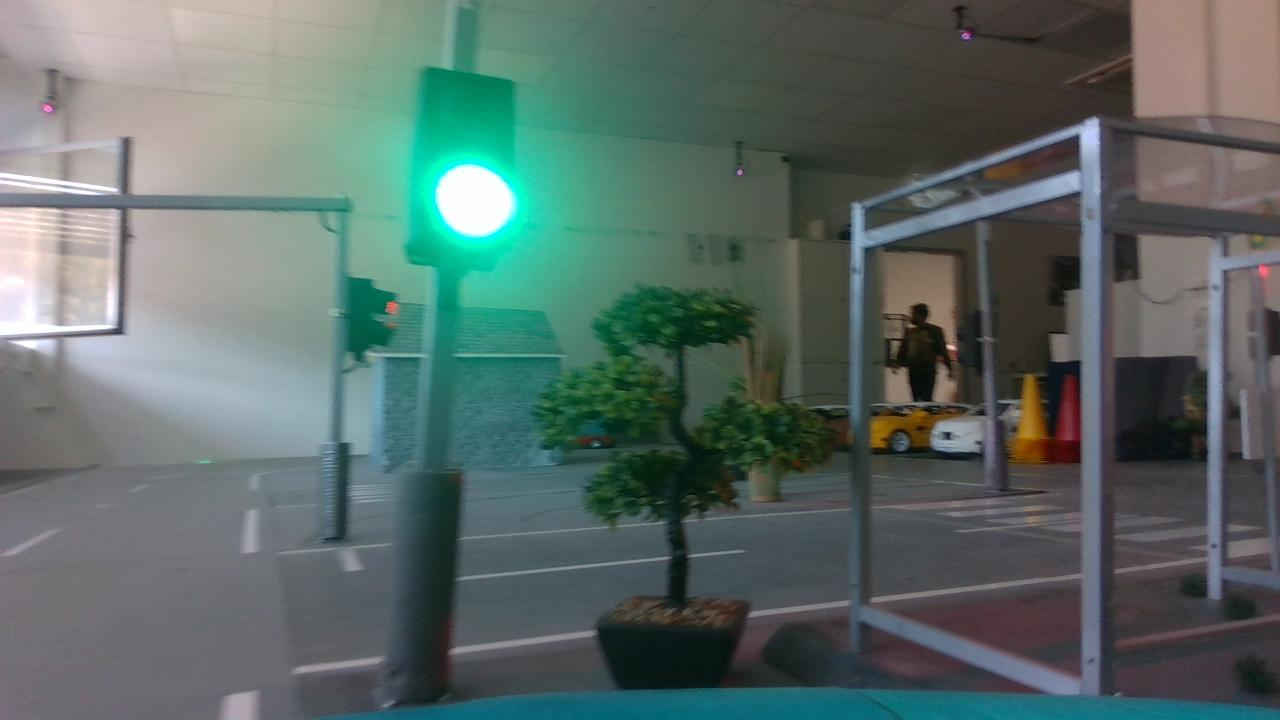traffic_light_green: (379, 42, 551, 283)
